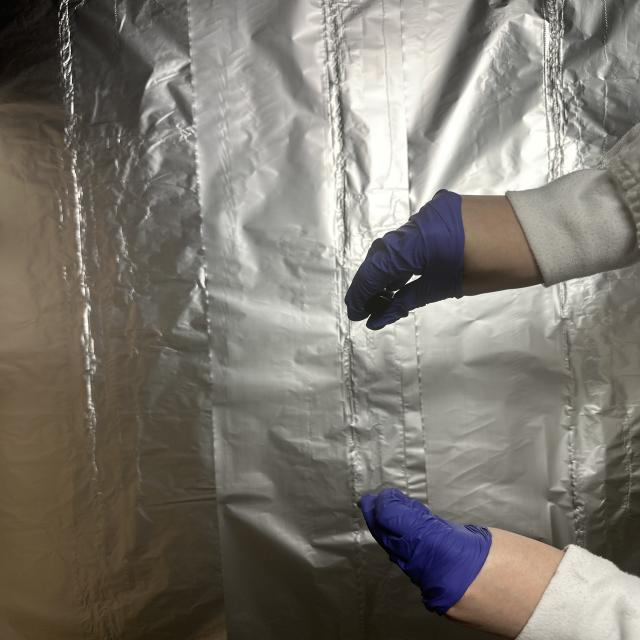glove_partial: (352, 483, 572, 640), (344, 185, 552, 331)
